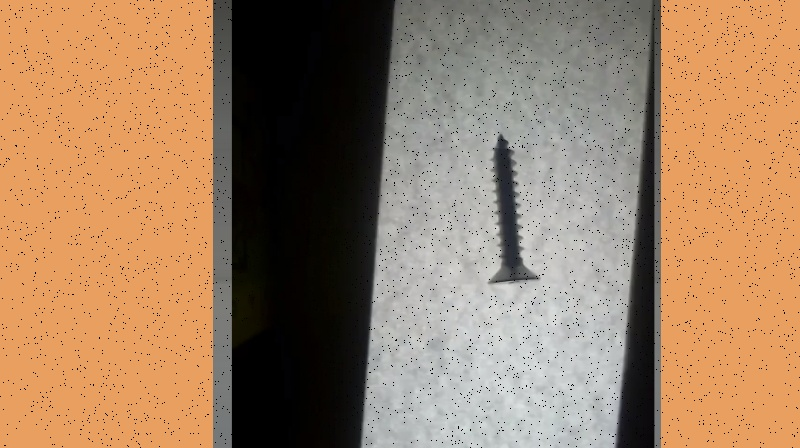S001: (481, 129, 540, 286)
